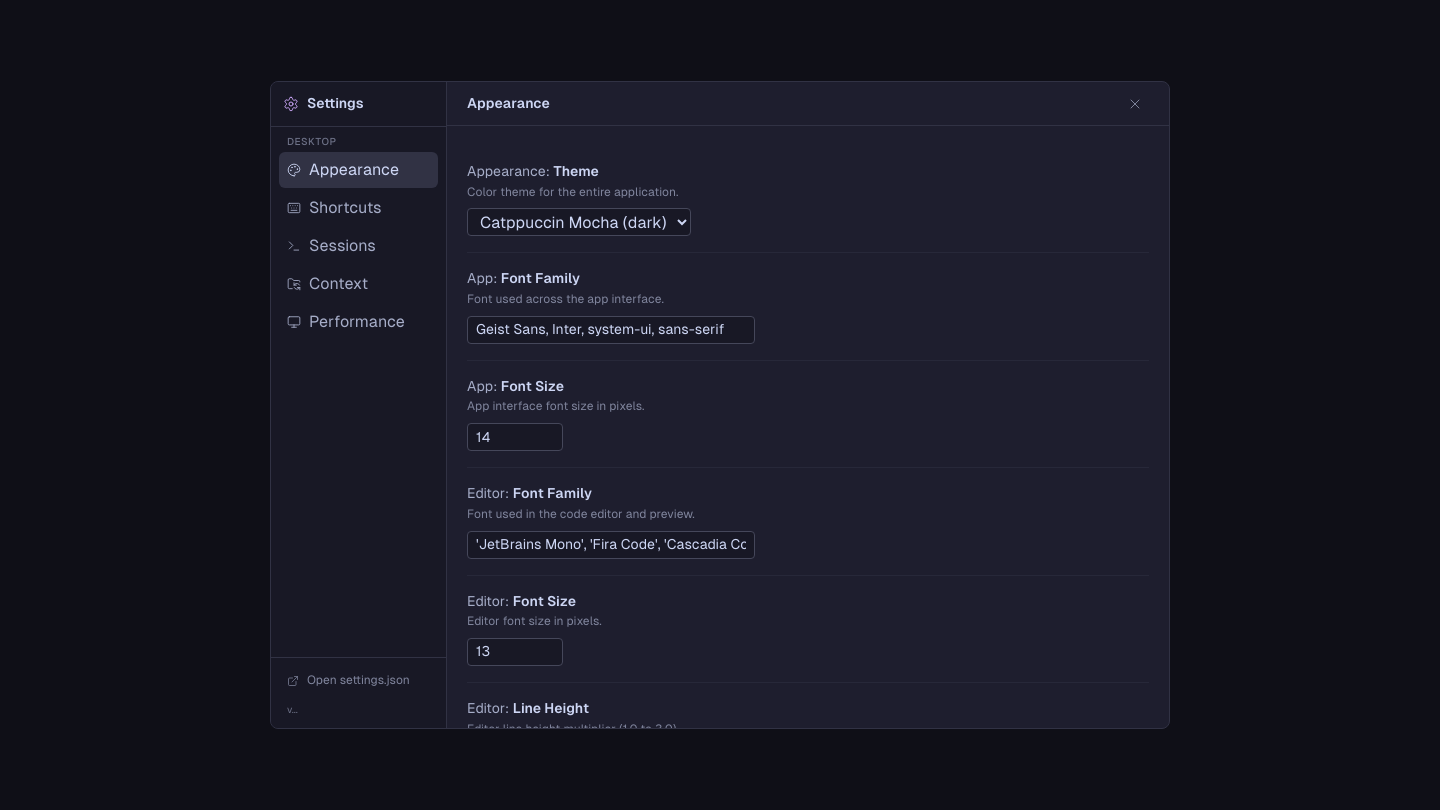
Test: SettingsDialog › navigates to Context section on click
Click the button "Context": [358, 284] box left=279, top=266, right=438, bottom=302
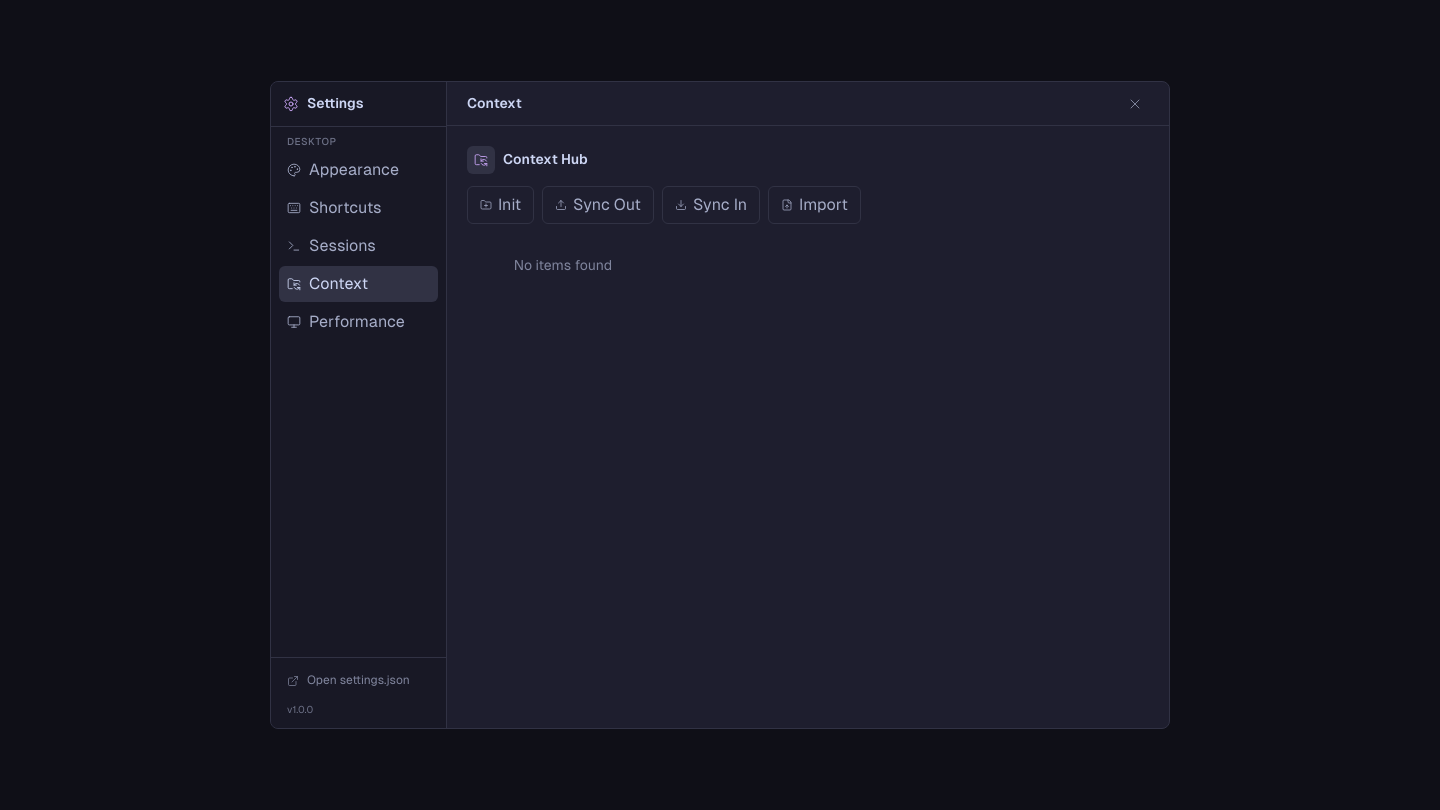
Expected: the element with test id "settings-section-context" is shown, left=467, top=146, right=861, bottom=273
